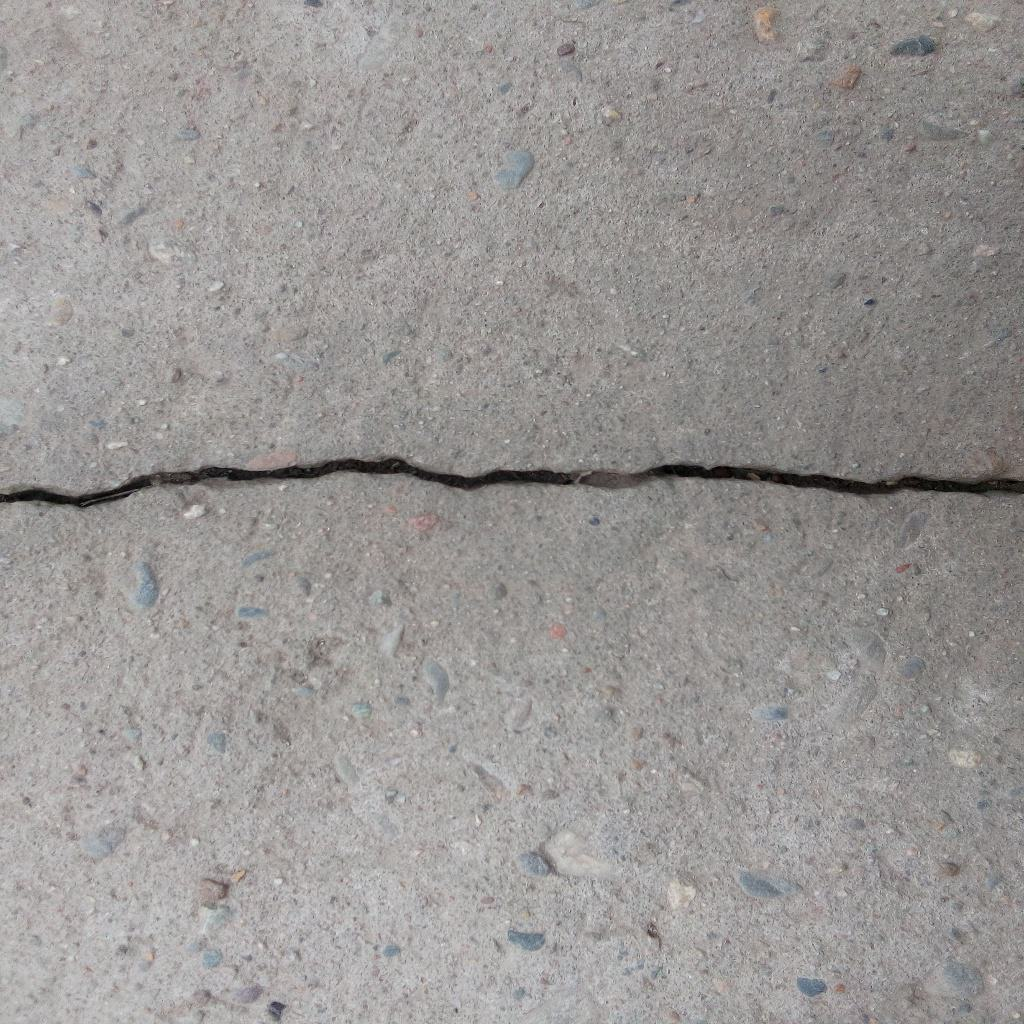Crack: (1, 453, 1024, 510)
